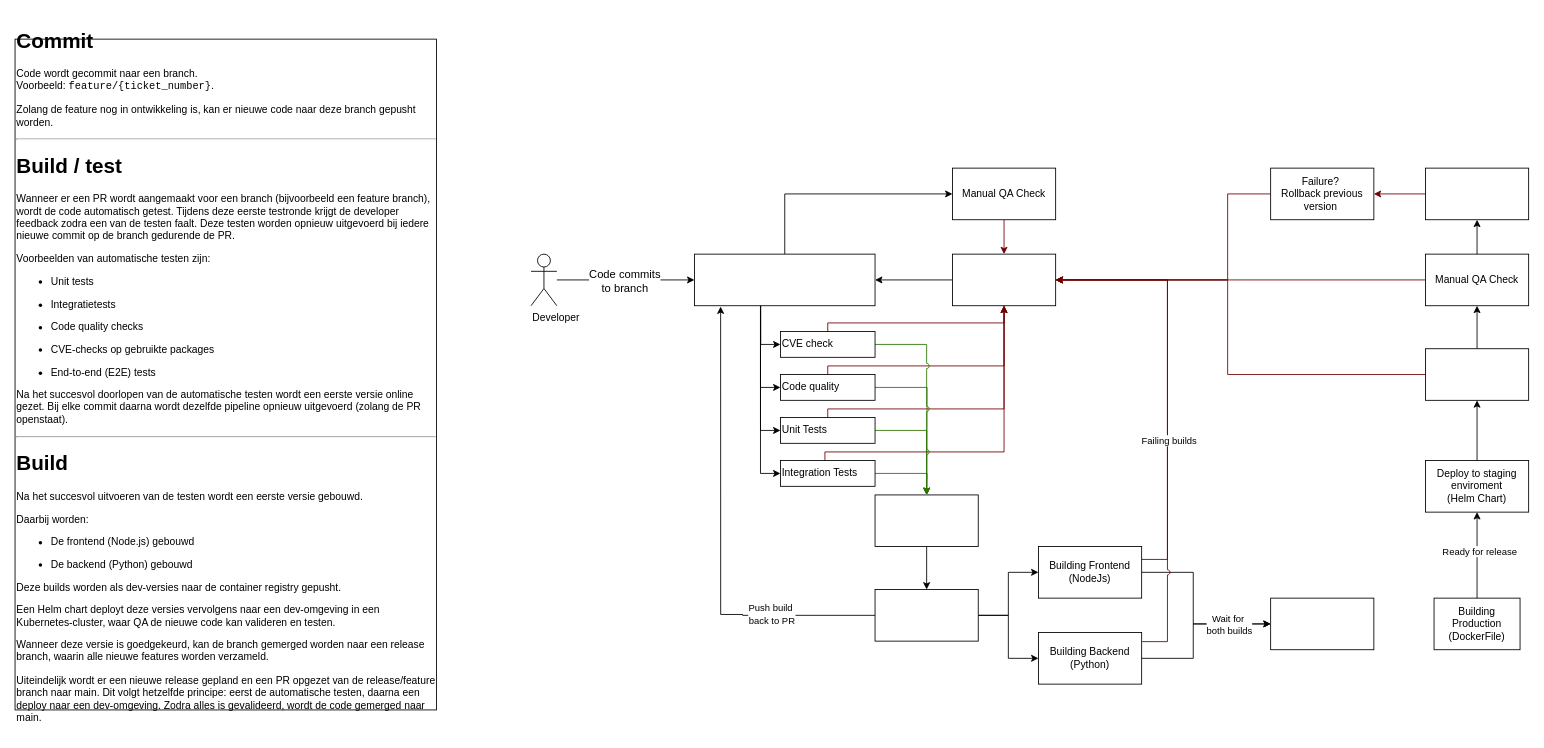
The diagram is 1544 pixels wide and 748 high, and some of its shapes have lost their labels. The shapes that lost their labels are listed below. From the top down, each one's box as (x1, y1, x2, y2) in pixels, then its label:
(1425, 167, 1529, 220): Deploy to production enviroment
(694, 253, 875, 306): Pull request opened: - Automated tests in parallel - Per commit
(952, 253, 1056, 306): Failed tests? Inform user
(1425, 348, 1529, 400): Testing phase of staging enviroment
(874, 494, 978, 547): Everything OK?
(874, 589, 978, 641): Building stage
(1270, 597, 1374, 650): Push images to registry
